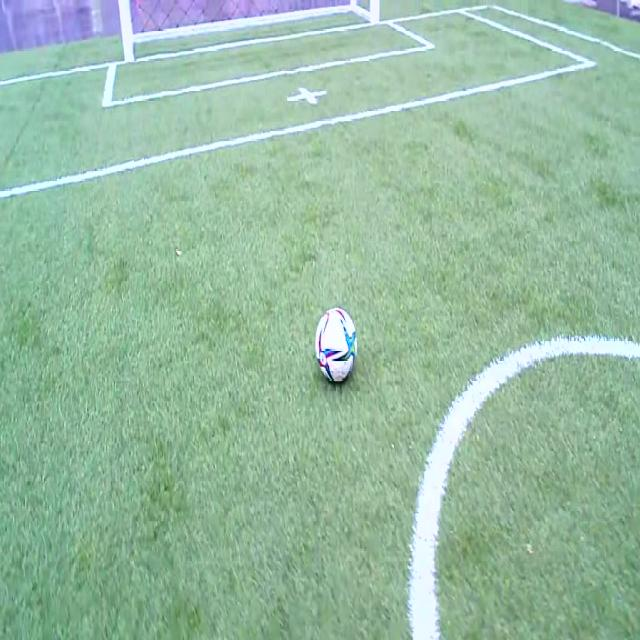ball: (316, 307, 358, 382)
